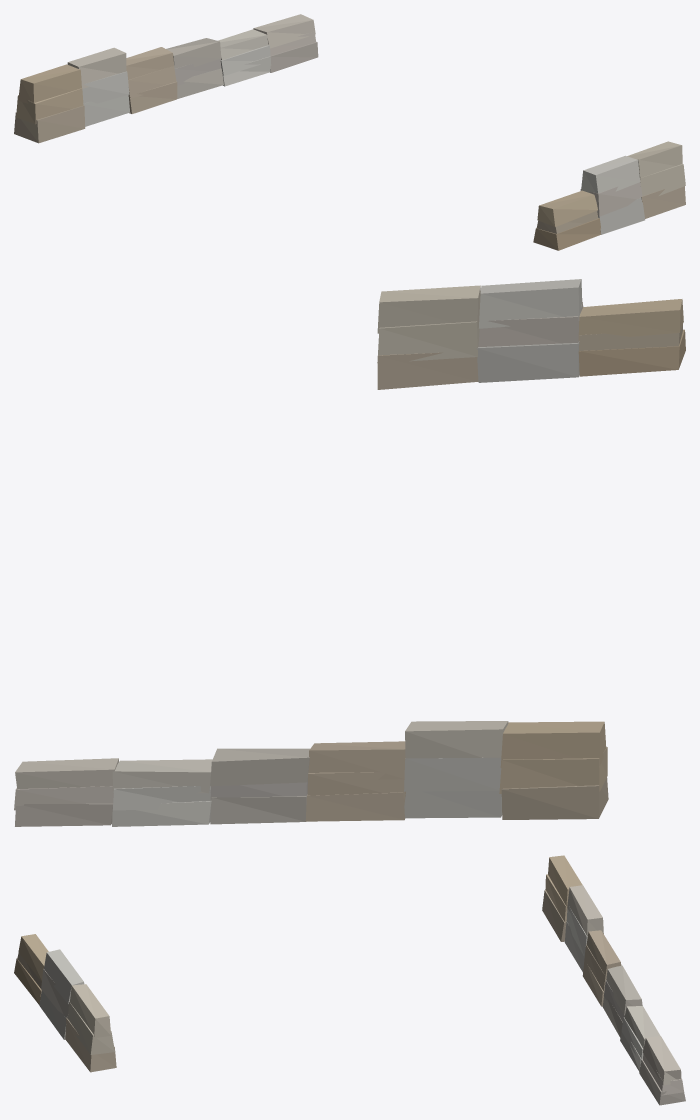
Rendered from farm_-34_-29_mid.glb.
The picture shows the model from 3 angles, top to bottom: view 1: azimuth 30°, elevation 25°; view 2: azimuth 150°, elevation 25°; view 3: azimuth 270°, elevation 25°; orthographic projection. The views are drawn at different scales.
Visible parts, largest first — view 1: geometry_0; view 2: geometry_0; view 3: geometry_0.
Part boxes in pixels (left/top/right/bottom): geometry_0: left=14, top=14, right=685, bottom=250; geometry_0: left=14, top=279, right=685, bottom=826; geometry_0: left=14, top=855, right=685, bottom=1105.
Bounding box in the file's own units: 10.75 × 3.5 × 16.54.
